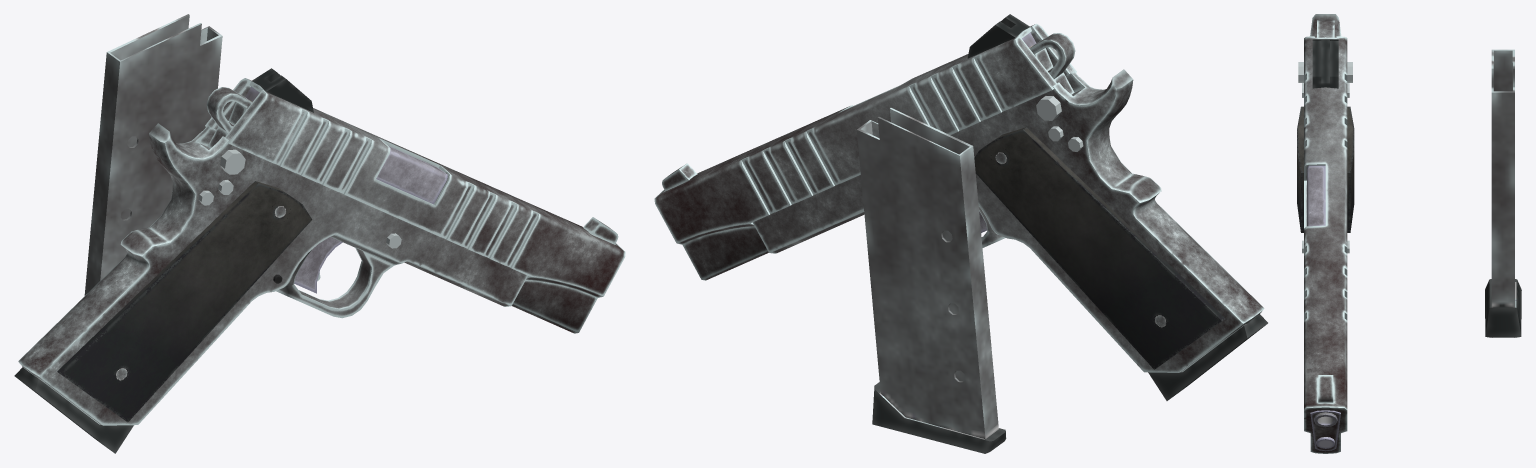
The model's file is pistol-5__pistol_godotfiles_1__Pistol__GLTF__Pistol.glb.
3 views of the same model, side by side, from view 1: azimuth 30°, elevation 25°; view 2: azimuth 150°, elevation 25°; view 3: azimuth 270°, elevation 25° (orthographic). The views are drawn at different scales.
Visible parts, largest first — view 1: Pistol_Frame, Pistol_Slide, Pistol_Magazine, Pistol_Slide4, Pistol_Magazine.001, Pistol_Hammer, Pistol_Trigger; view 2: Pistol_Frame, Pistol_Magazine, Pistol_Slide, Pistol_Magazine.001, Pistol_Hammer; view 3: Pistol_Slide, Pistol_Magazine, Pistol_Frame, Pistol_Slide4, Pistol_Hammer, Pistol_Barrel.
Boxes of the visible parts, bbox=[...] form: Pistol_Frame: bbox=[18, 86, 527, 425]; Pistol_Slide: bbox=[205, 68, 625, 333]; Pistol_Magazine: bbox=[84, 14, 222, 295]; Pistol_Slide4: bbox=[376, 146, 447, 204]; Pistol_Magazine.001: bbox=[14, 367, 133, 453]; Pistol_Hammer: bbox=[206, 87, 251, 148]; Pistol_Trigger: bbox=[294, 237, 342, 293]; Pistol_Frame: bbox=[752, 32, 1264, 372]; Pistol_Magazine: bbox=[857, 108, 1006, 453]; Pistol_Slide: bbox=[654, 14, 1076, 280]; Pistol_Magazine.001: bbox=[1148, 314, 1267, 400]; Pistol_Hammer: bbox=[1029, 33, 1075, 94]; Pistol_Slide: bbox=[1304, 36, 1347, 453]; Pistol_Magazine: bbox=[1485, 49, 1521, 337]; Pistol_Frame: bbox=[1297, 14, 1354, 253]; Pistol_Slide4: bbox=[1307, 165, 1325, 226]; Pistol_Hammer: bbox=[1317, 20, 1334, 37]; Pistol_Barrel: bbox=[1314, 412, 1337, 427].
Size of the model in its own units: 0.2782 by 0.1491 by 0.1037.
Materials: 1 (1 with a texture image).
